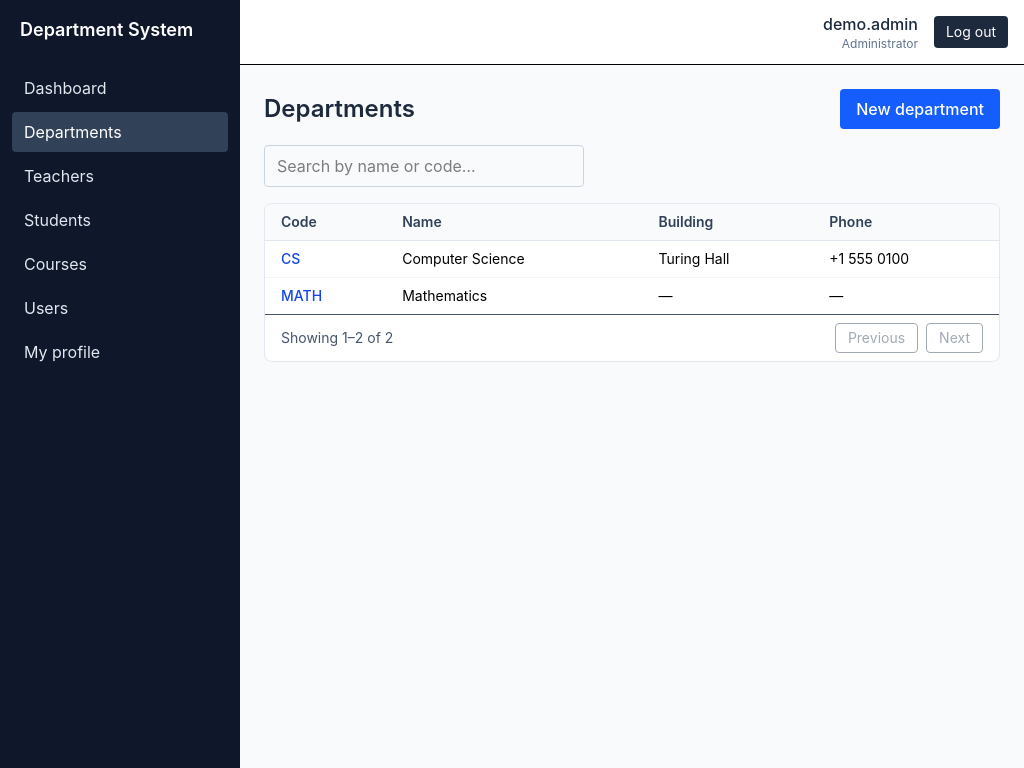
Test: DepartmentsPage list › searches (debounced) from the first page and says when nothing matches
The image size is (1024, 768).
Check: the link "CS" is shown, box 281,250 -> 300,267
Type "phys" into the search field named "Search departments" at (424, 166), box 264,145 -> 584,187
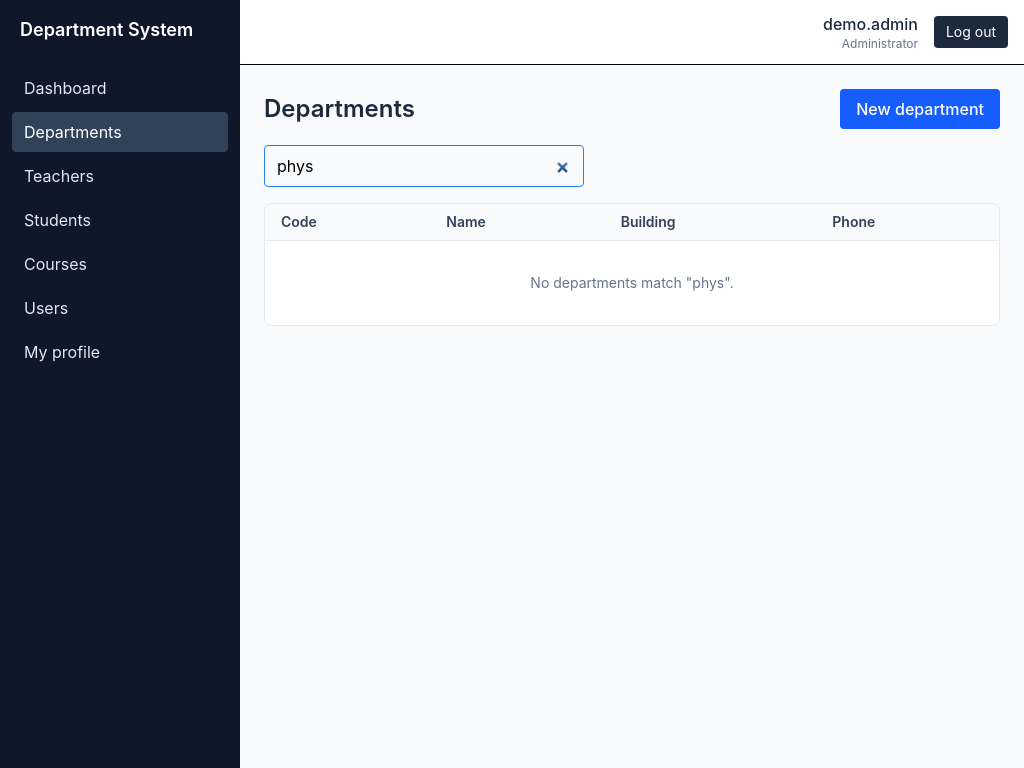
Check: the cell "No departments match \"phys\"." is shown, box 265,241 -> 999,325
